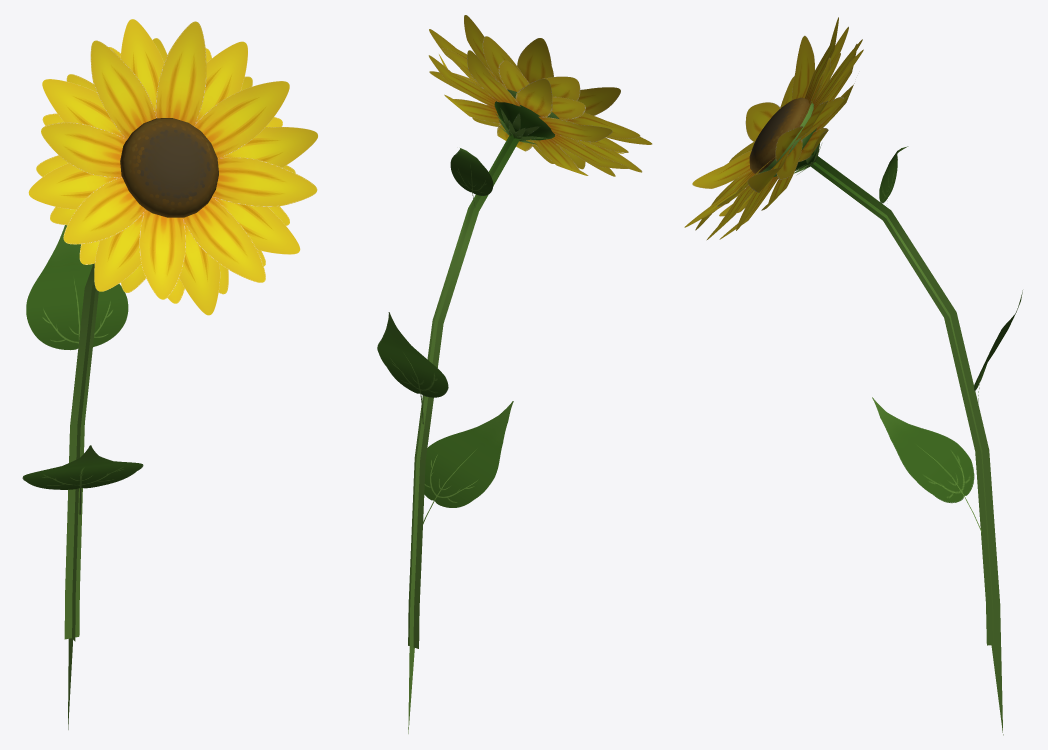
The model's file is sunflower.glb.
3 views of the same model, side by side, from view 1: azimuth 30°, elevation 25°; view 2: azimuth 150°, elevation 25°; view 3: azimuth 270°, elevation 25° (orthographic). The views are drawn at different scales.
Visible parts, largest first — view 1: pPlane58_lambert17_0, pPlane60_lambert17_0, pPlane59_lambert16_0, pSphere1_lambert16_0, pPlane3_lambert16_0, pPlane61_lambert17_0; view 2: pPlane59_lambert16_0, pPlane61_lambert17_0, pPlane3_lambert16_0, pPlane60_lambert17_0, pPlane58_lambert17_0, pSphere1_lambert16_0; view 3: pPlane3_lambert16_0, pPlane59_lambert16_0, pPlane58_lambert17_0, pPlane61_lambert17_0, pPlane60_lambert17_0, pSphere1_lambert16_0.
Part boxes in pixels (x1,y1,x2,y2): pPlane58_lambert17_0: [41, 21, 317, 299]; pPlane60_lambert17_0: [28, 19, 317, 315]; pPlane59_lambert16_0: [22, 225, 143, 514]; pSphere1_lambert16_0: [120, 118, 218, 217]; pPlane3_lambert16_0: [64, 263, 98, 729]; pPlane61_lambert17_0: [36, 38, 295, 303]; pPlane59_lambert16_0: [377, 148, 513, 524]; pPlane61_lambert17_0: [428, 47, 629, 176]; pPlane3_lambert16_0: [408, 133, 519, 733]; pPlane60_lambert17_0: [429, 29, 642, 172]; pPlane58_lambert17_0: [456, 15, 652, 153]; pSphere1_lambert16_0: [494, 89, 559, 140]; pPlane3_lambert16_0: [808, 156, 1003, 735]; pPlane59_lambert16_0: [872, 146, 1022, 532]; pPlane58_lambert17_0: [684, 17, 838, 227]; pPlane61_lambert17_0: [718, 44, 863, 239]; pPlane60_lambert17_0: [695, 26, 862, 240]; pSphere1_lambert16_0: [749, 97, 816, 176].
Bounding box in the file's own units: 0.3333 × 0.9371 × 0.43.
2 materials, 2 textured.
